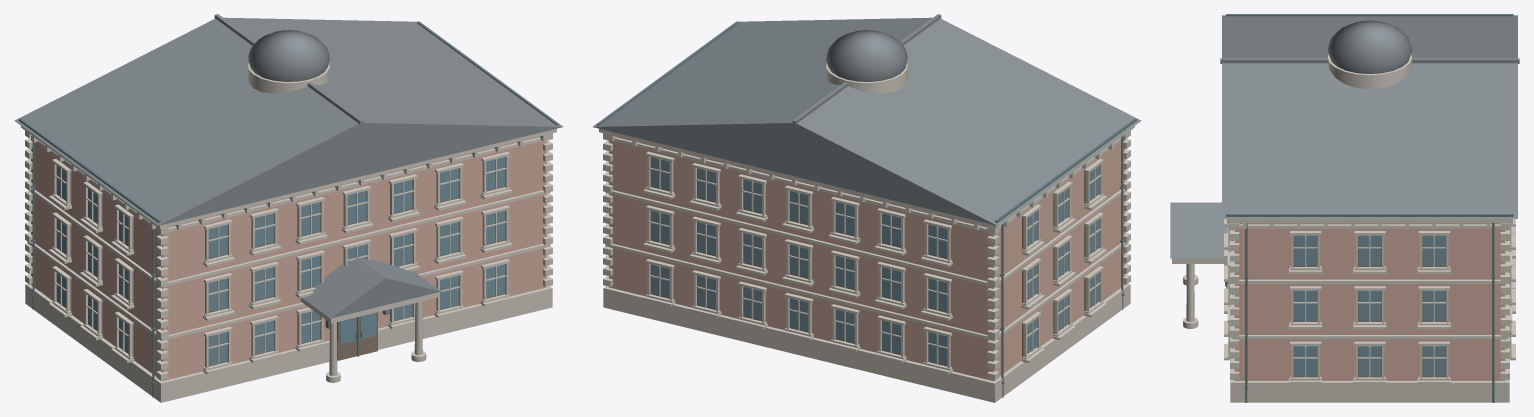
Rendered from arts.glb.
3 renders of one model, left to right at view 1: azimuth 30°, elevation 25°; view 2: azimuth 150°, elevation 25°; view 3: azimuth 270°, elevation 25°, orthographic. The views are drawn at different scales.
Visible parts, largest first — view 1: arts-roof, arts-stone, masonry, arts-glass, arts-wood, arts-metal; view 2: arts-roof, arts-stone, masonry, arts-glass, arts-metal, arts-wood; view 3: arts-roof, masonry, arts-stone, arts-glass, arts-metal, arts-wood.
Boxes of the visible parts, left/top/right/bottom form: arts-roof: left=14, top=14, right=562, bottom=318; arts-stone: left=21, top=63, right=556, bottom=402; masonry: left=31, top=136, right=546, bottom=381; arts-glass: left=56, top=157, right=504, bottom=365; arts-wood: left=57, top=157, right=505, bottom=366; arts-metal: left=19, top=21, right=558, bottom=397; arts-roof: left=593, top=14, right=1141, bottom=225; arts-stone: left=599, top=63, right=1134, bottom=402; masonry: left=609, top=136, right=1124, bottom=381; arts-glass: left=651, top=157, right=1099, bottom=365; arts-metal: left=597, top=21, right=1136, bottom=397; arts-wood: left=650, top=157, right=1098, bottom=366; arts-roof: left=1170, top=15, right=1519, bottom=258; masonry: left=1234, top=223, right=1505, bottom=380; arts-stone: left=1172, top=54, right=1515, bottom=402; arts-glass: left=1227, top=235, right=1445, bottom=376; arts-metal: left=1225, top=14, right=1513, bottom=402; arts-wood: left=1228, top=229, right=1507, bottom=377.
Size of the model in its own units: 28.5 by 18.1 by 20.65.
